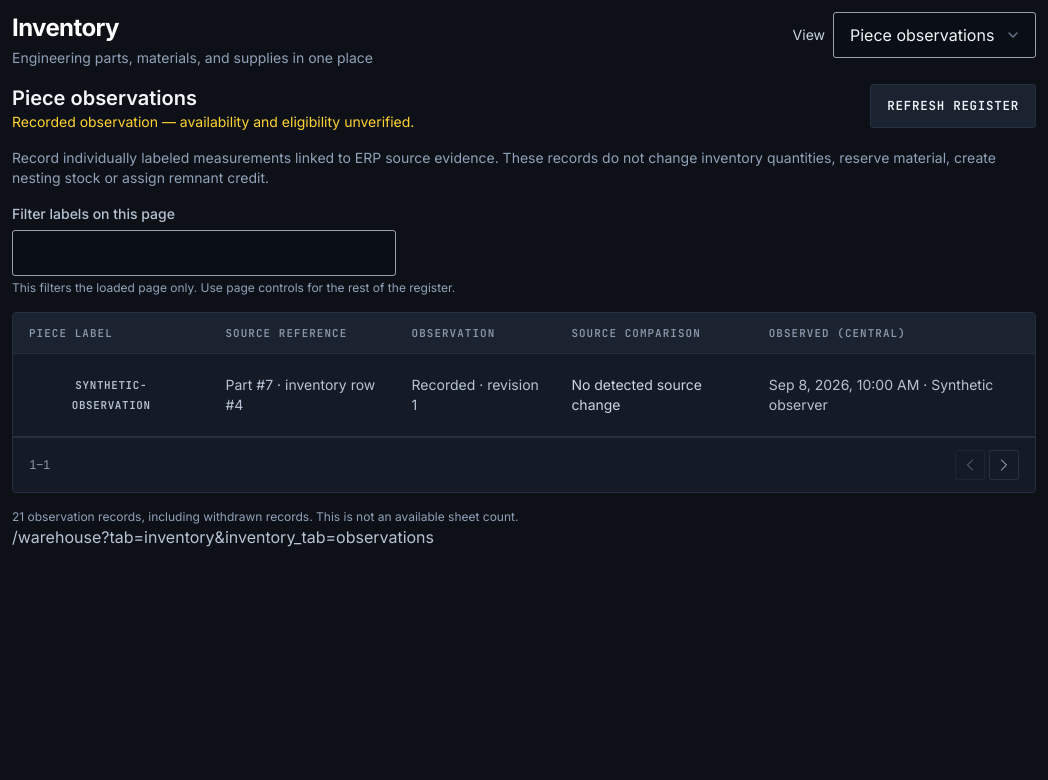
Scenario: shows the existing aggregate summary and write actions when switching back after a successful independent load
This screenshot has width=1048, height=780.
Check: the button "SYNTHETIC-OBSERVATION" is shown, box [29, 368, 194, 422]
Check: the element "Piece observations" is shown, box [12, 84, 1036, 525]
Select "Summary by Part" in the dropdown named "Inventory view" at (934, 35), box [833, 12, 1036, 58]
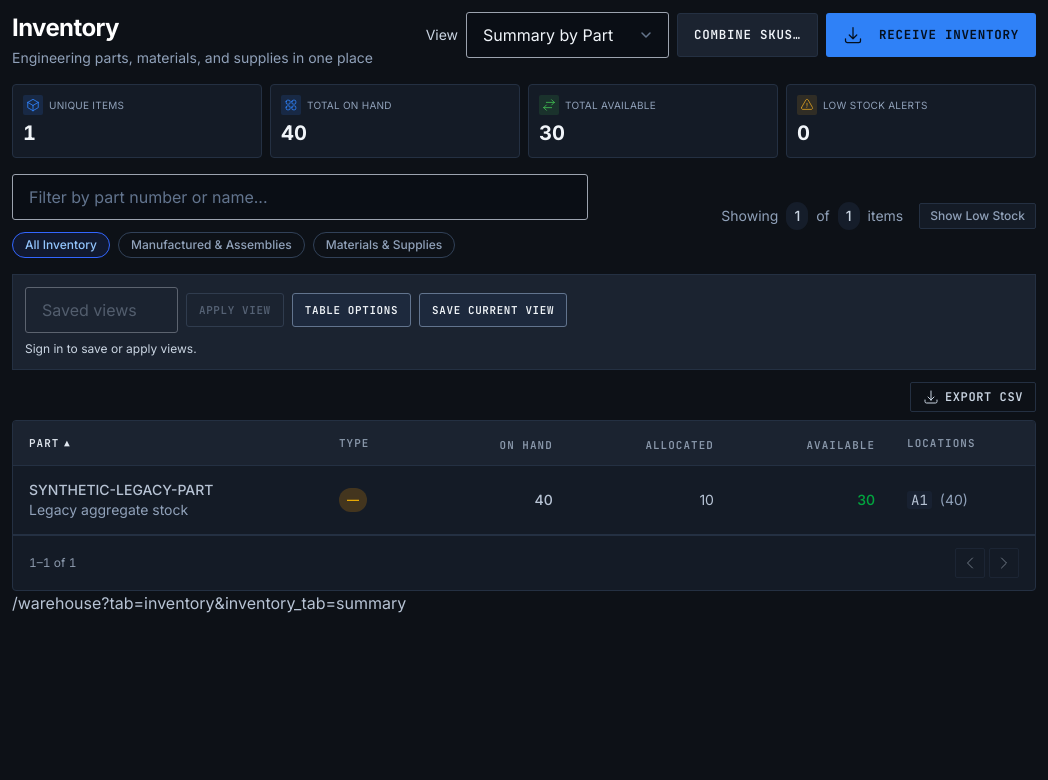
Check: the text "Total On Hand" is shown, box [307, 99, 392, 111]
Check: the button "Receive Inventory" is shown, box [826, 13, 1036, 57]
Check: the button "Combine SKUs…" is shown, box [677, 13, 818, 57]
